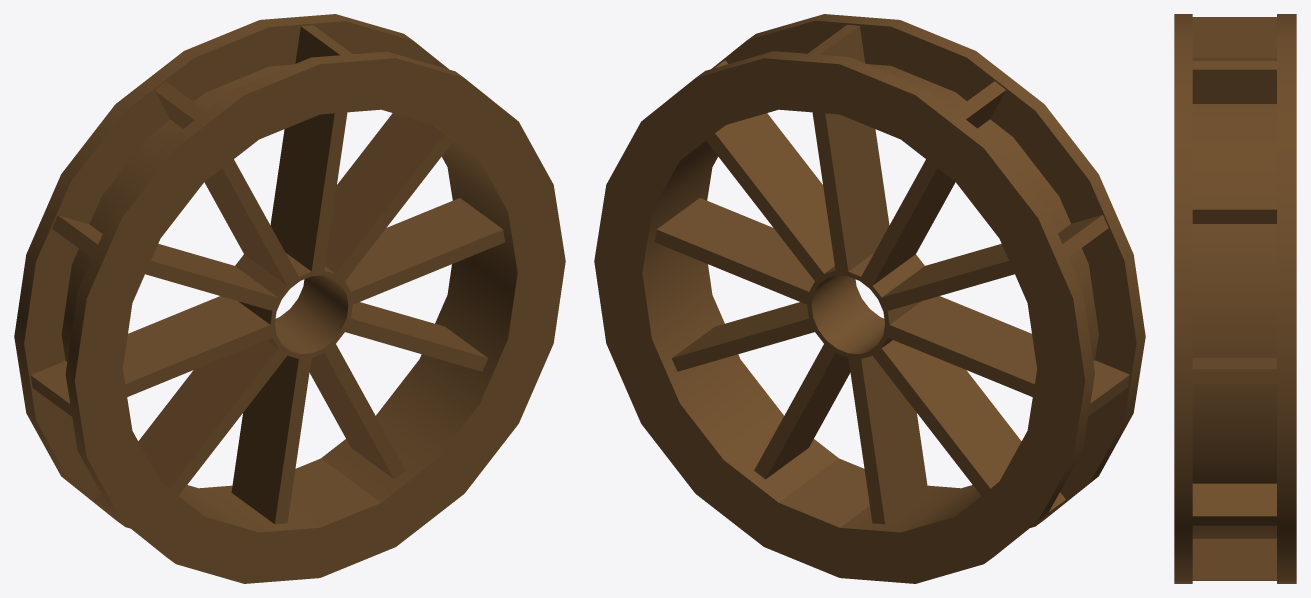
The model's file is WaterMillWheel.fbx.
3 views of the same model, side by side, from view 1: azimuth 30°, elevation 25°; view 2: azimuth 150°, elevation 25°; view 3: azimuth 270°, elevation 25° (orthographic).
Visible parts, largest first — view 1: pPipe2; view 2: pPipe2; view 3: pPipe2.
Part boxes in pixels (box(x1,y1,x2,y2)): pPipe2: box(14, 14, 565, 583); pPipe2: box(594, 14, 1145, 583); pPipe2: box(1174, 14, 1296, 583).
Bounding box in the file's own units: 10.85 × 10.85 × 2.32.
